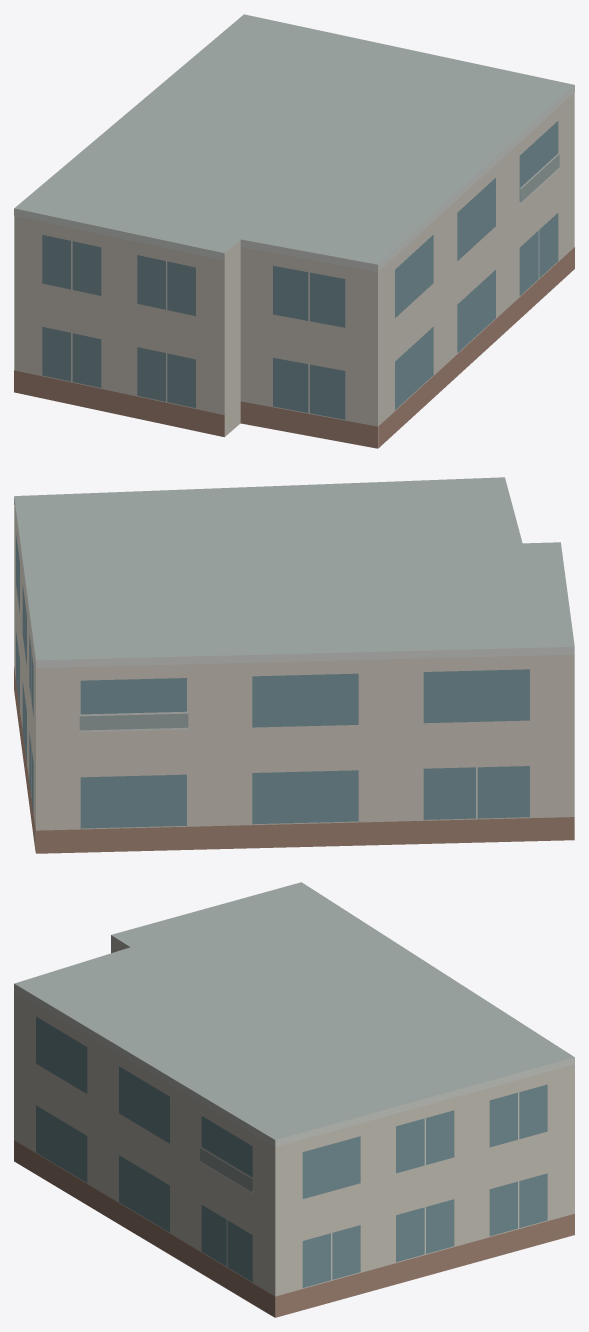
File: survey-upis-32616187.glb
The picture shows the model from 3 angles, top to bottom: view 1: azimuth 30°, elevation 25°; view 2: azimuth 150°, elevation 25°; view 3: azimuth 270°, elevation 25°; orthographic projection. The views are drawn at different scales.
Visible parts, largest first — view 1: survey-upis-32616187.tmp; view 2: survey-upis-32616187.tmp; view 3: survey-upis-32616187.tmp.
Part boxes in pixels (<box>): survey-upis-32616187.tmp: <box>14,14,574,448</box>; survey-upis-32616187.tmp: <box>14,477,574,853</box>; survey-upis-32616187.tmp: <box>14,882,574,1317</box>.
Bounding box in the file's own units: 19 × 6.1 × 17.45.
